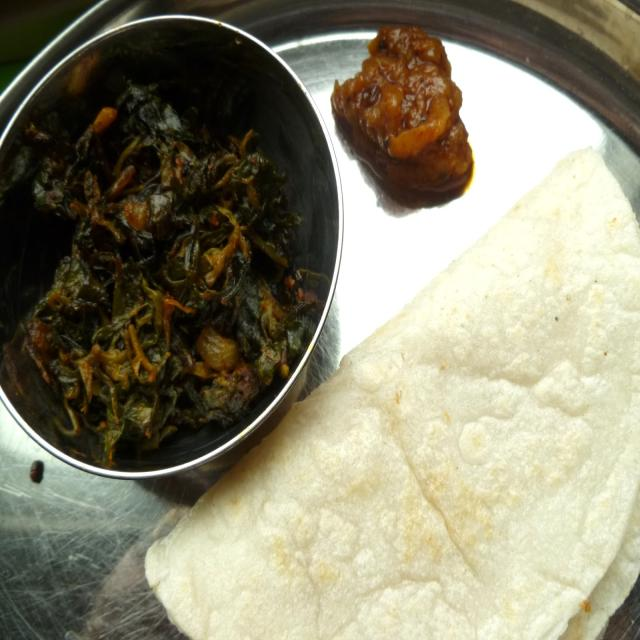RICE BHAKRI: (148, 137, 640, 639)
